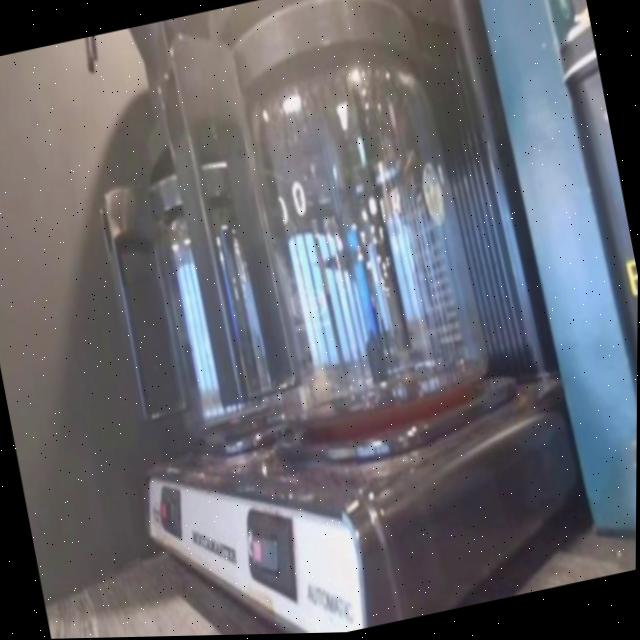nocoffee: (235, 76, 500, 441), (152, 215, 285, 458)
